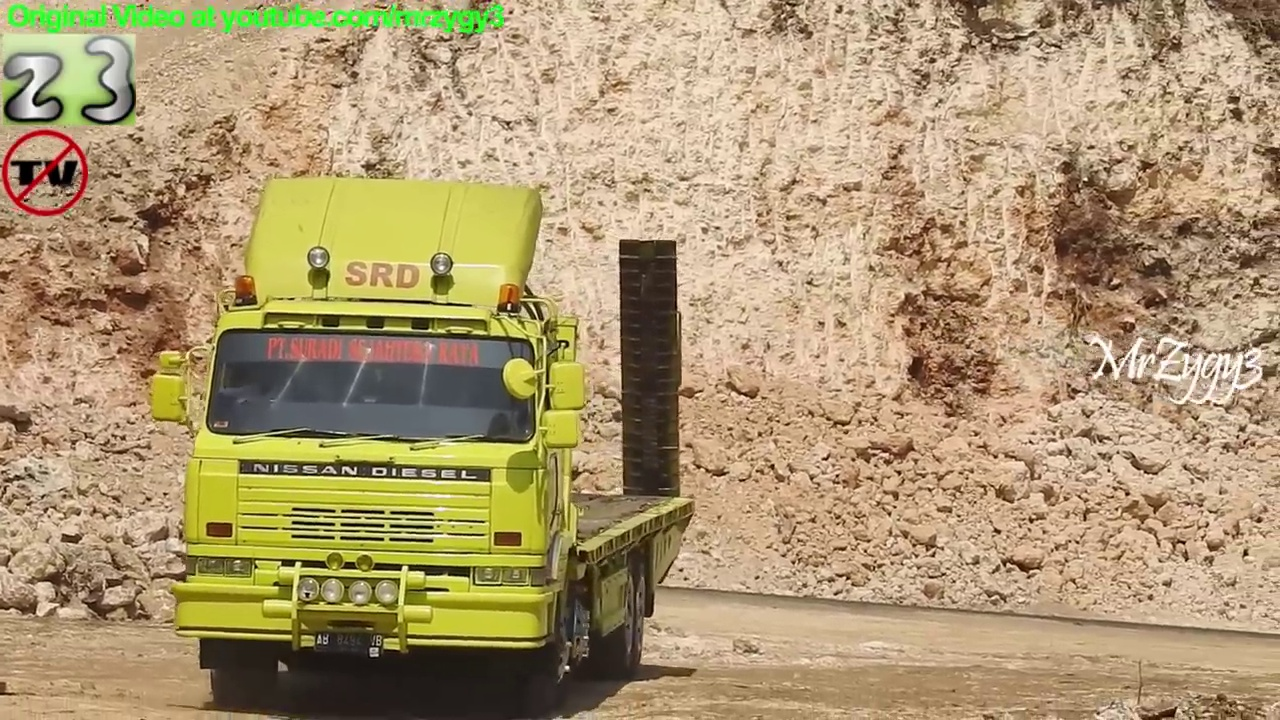truck: (143, 169, 703, 714)
